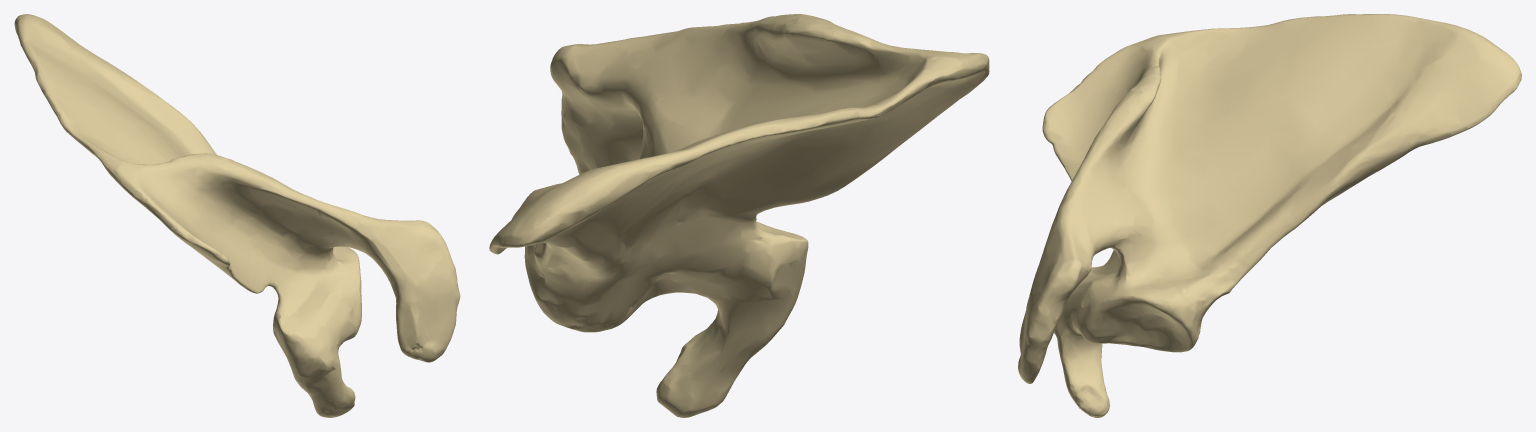
3 views of the same model, side by side, from view 1: azimuth 30°, elevation 25°; view 2: azimuth 150°, elevation 25°; view 3: azimuth 270°, elevation 25° (orthographic). The views are drawn at different scales.
Parts seen in each view (by area): view 1: 左侧肩胛骨; view 2: 左侧肩胛骨; view 3: 左侧肩胛骨.
Part boxes in pixels (x1,y1,x2,y2): 左侧肩胛骨: (14, 14, 460, 417); 左侧肩胛骨: (489, 14, 989, 417); 左侧肩胛骨: (1018, 14, 1521, 417).
Size of the model in its own units: 0.1664 by 0.168 by 0.241.
